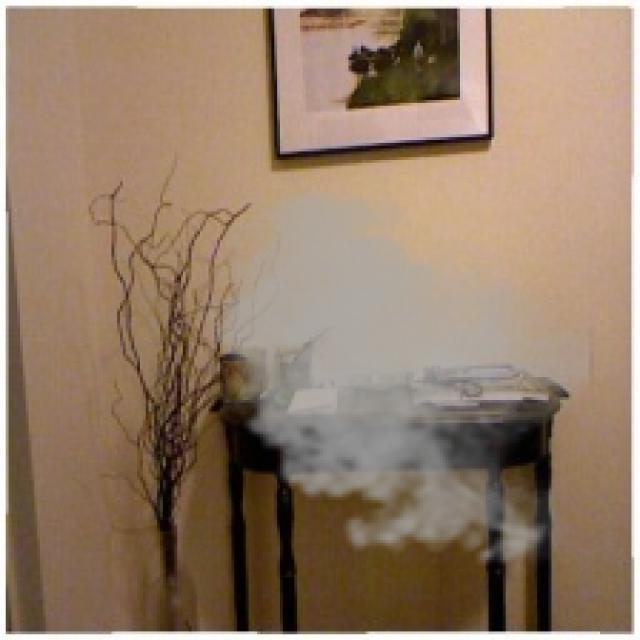Smoke: (192, 180, 594, 577)
